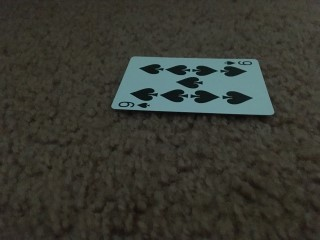NineOfSpades: (111, 56, 274, 114)
